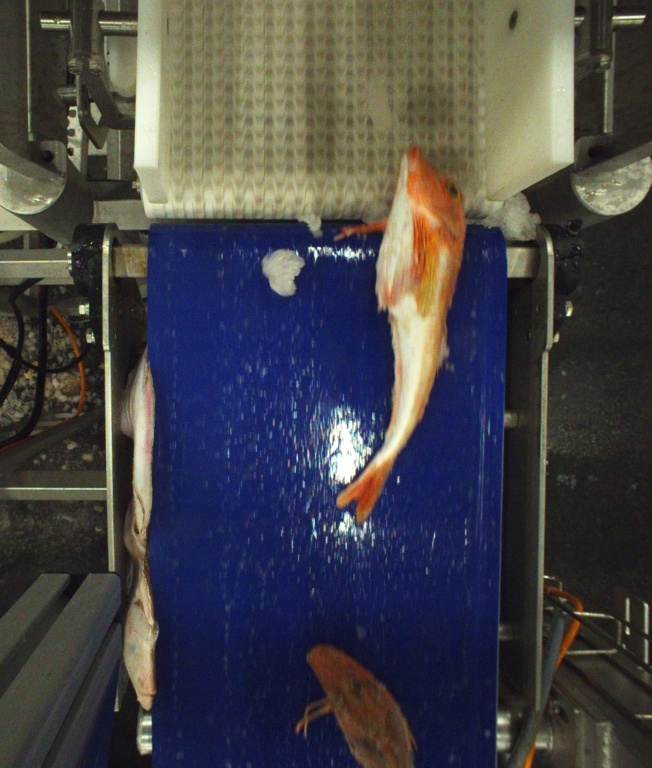GUU: (293, 645, 421, 768)
